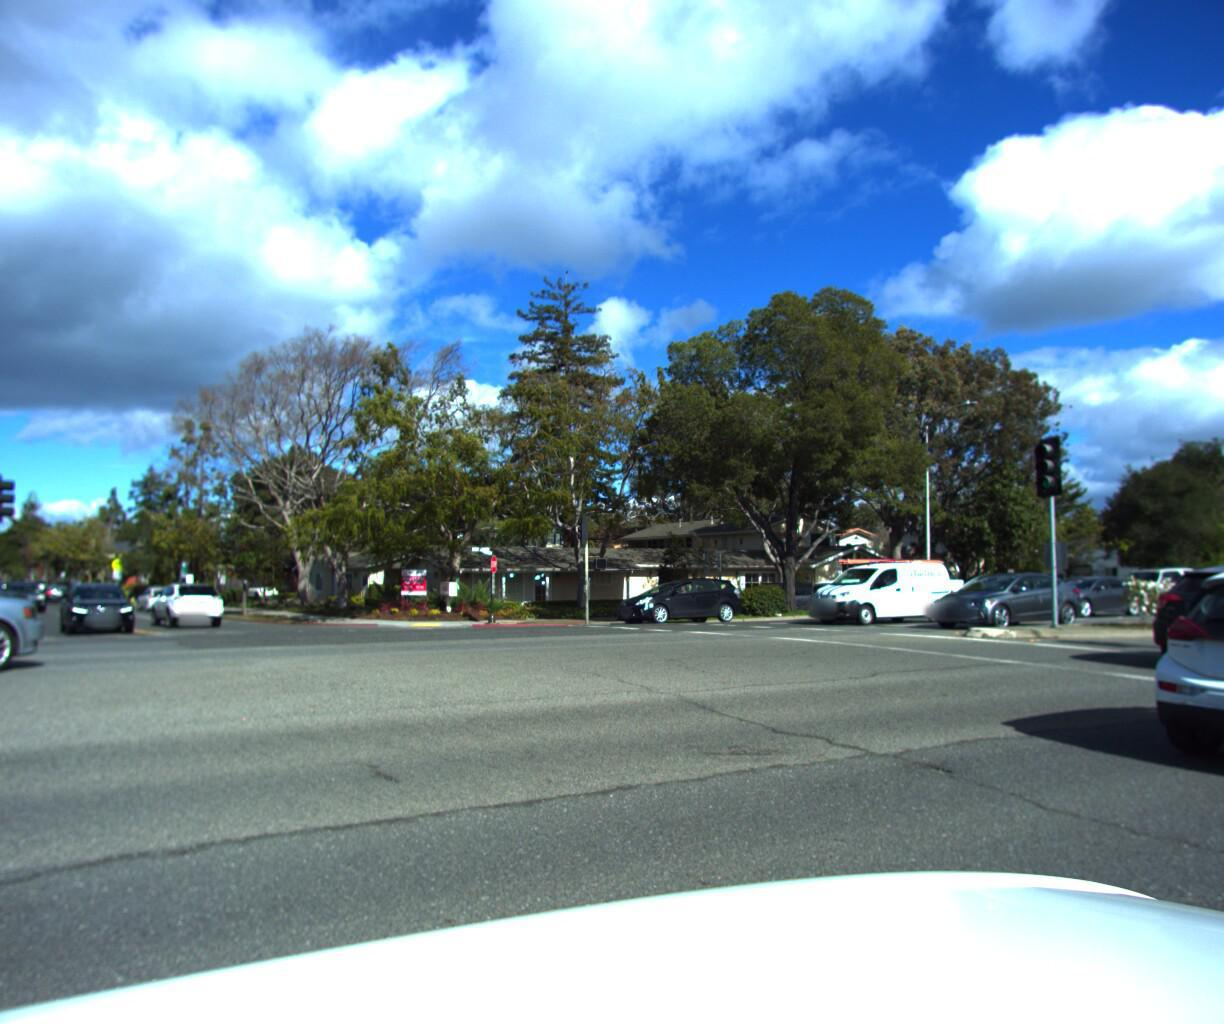car: (1128, 547, 1224, 828), (0, 533, 72, 728), (799, 557, 972, 629), (1134, 555, 1224, 683), (795, 562, 957, 631), (916, 571, 1089, 634), (607, 577, 747, 634), (1019, 575, 1150, 622), (1091, 568, 1204, 614), (58, 587, 143, 644), (150, 576, 234, 626), (0, 589, 55, 623), (138, 588, 187, 619)
